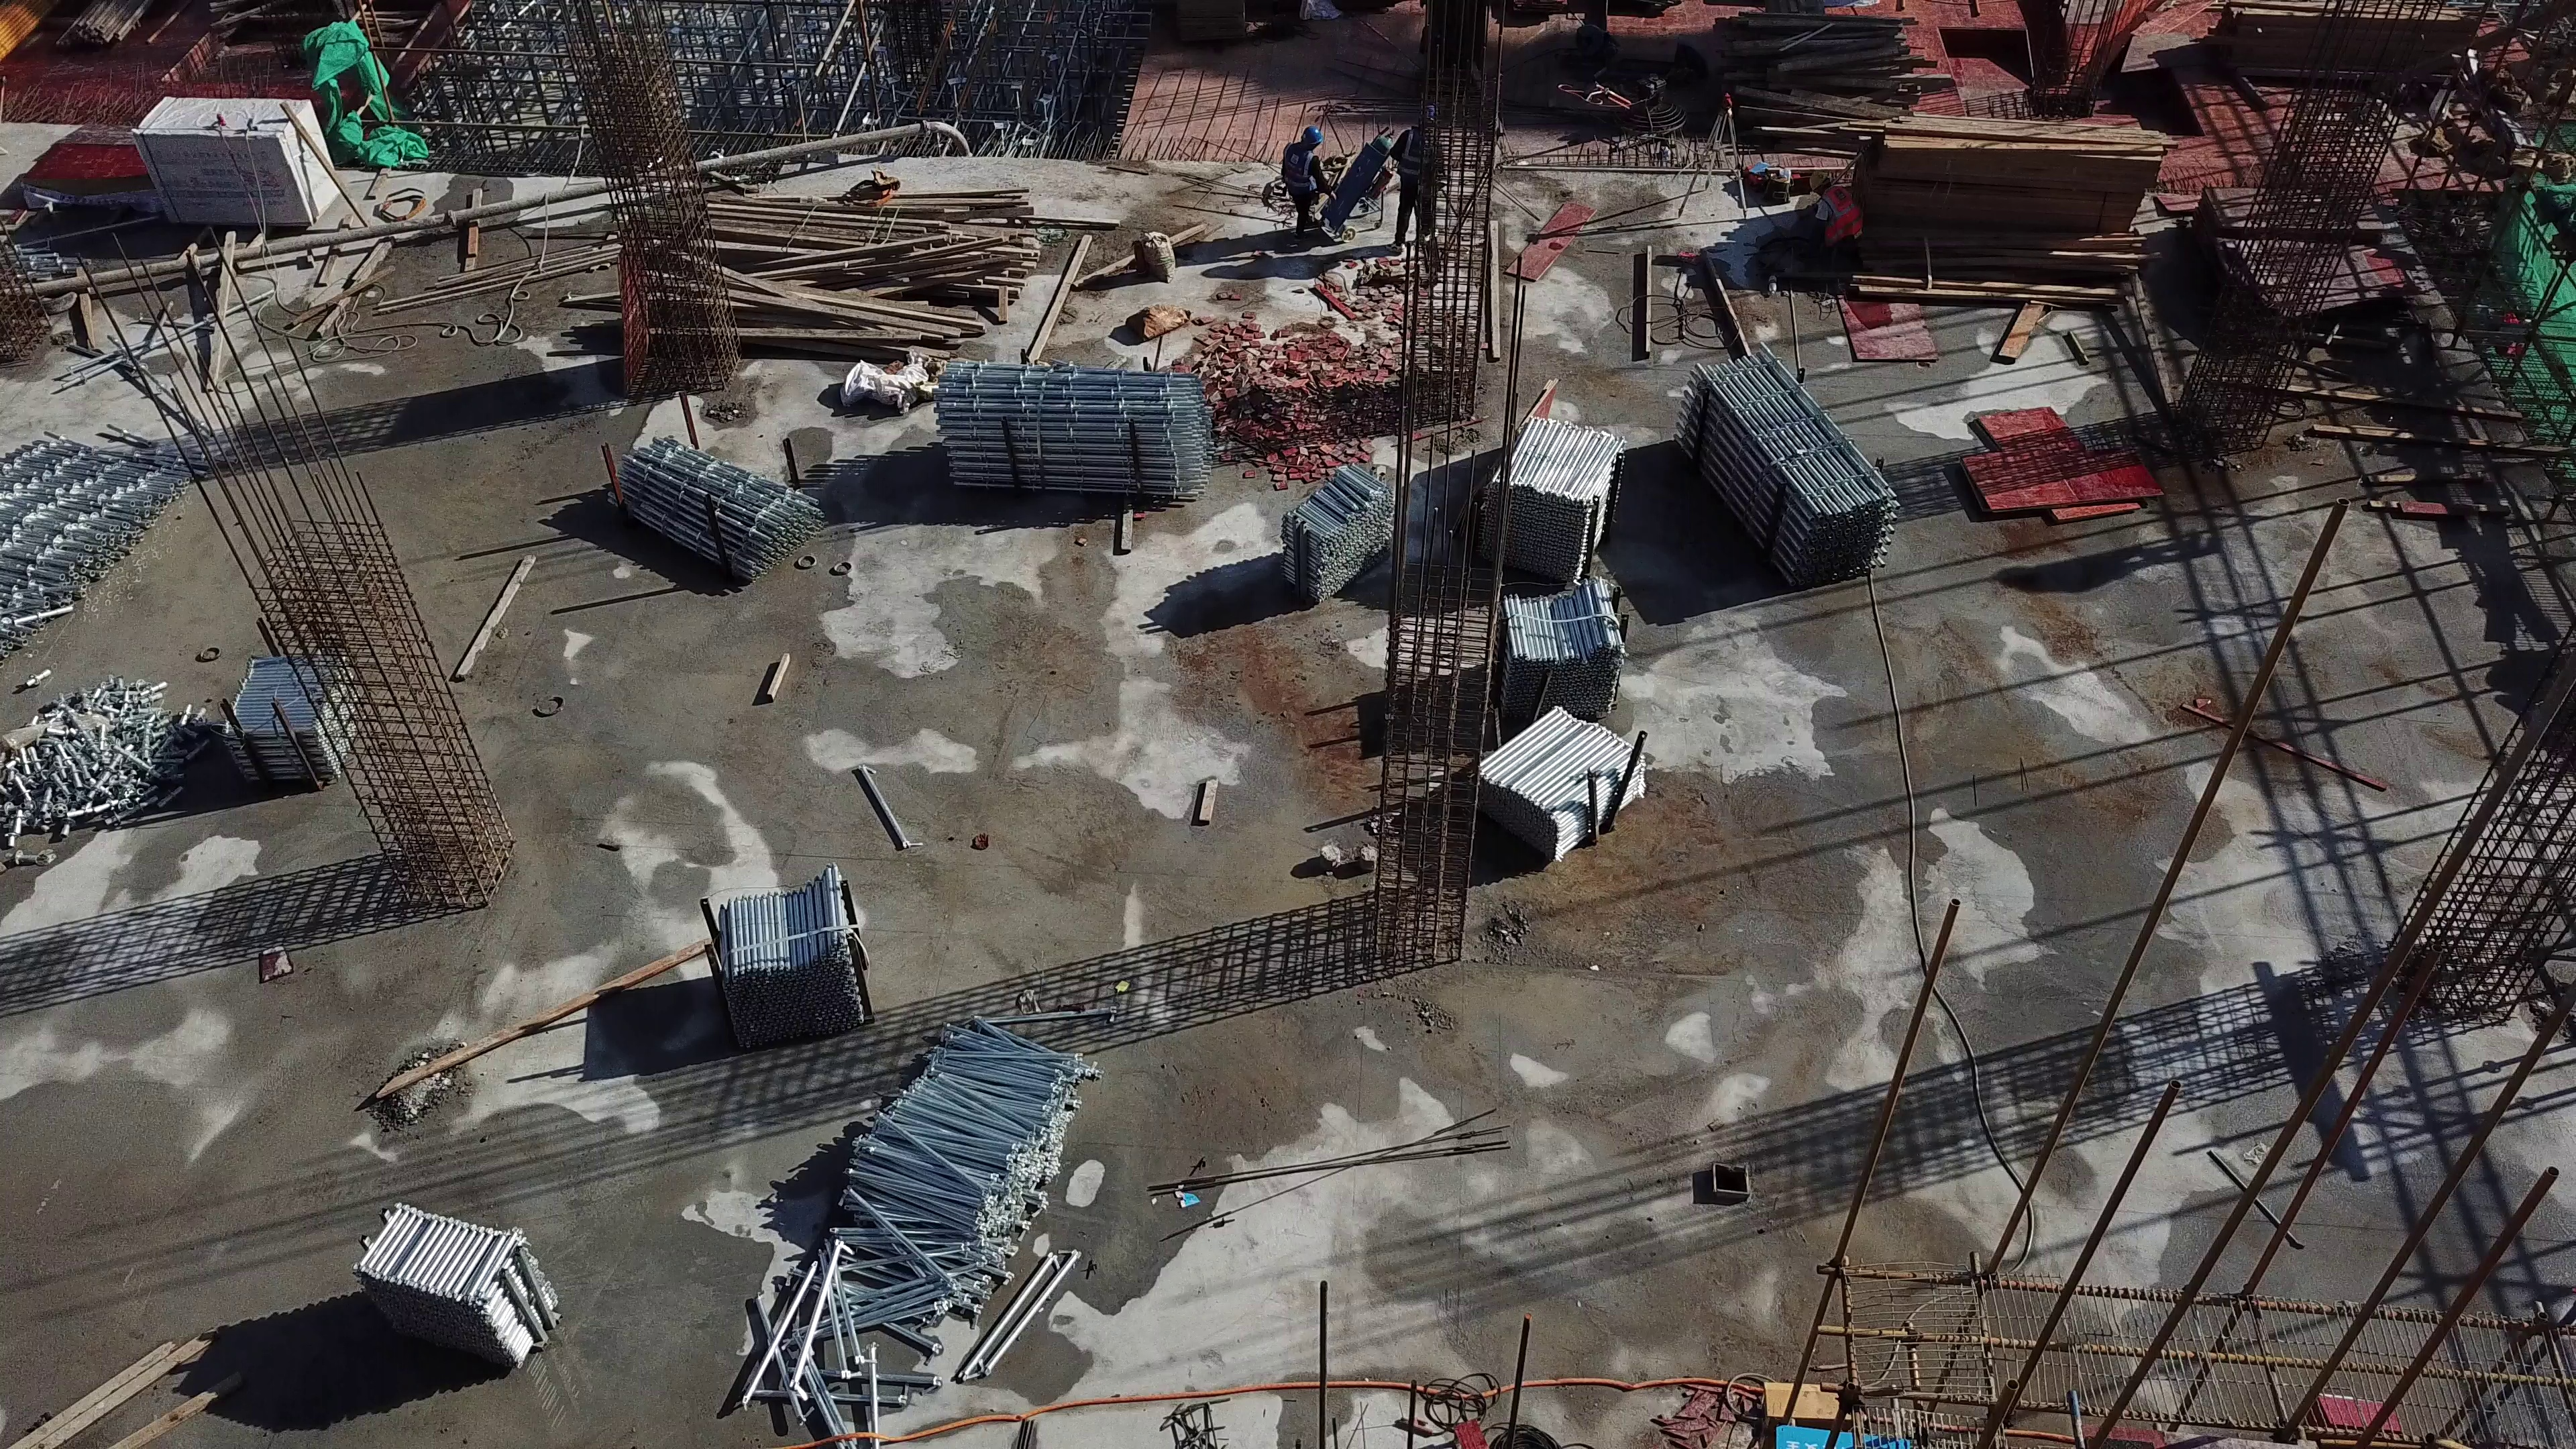board: (1943, 407, 2171, 529), (1837, 296, 1941, 369)
helmet: (1297, 123, 1326, 148), (1806, 170, 1826, 189)
person: (1793, 165, 1866, 274), (1391, 103, 1437, 256), (1277, 119, 1322, 241)
scaffold: (765, 1016, 1140, 1449), (1680, 362, 1913, 598), (918, 362, 1225, 521), (1, 411, 196, 652), (332, 1199, 571, 1373), (1, 681, 219, 858), (1438, 702, 1667, 855), (705, 857, 890, 1040), (616, 440, 824, 590), (1481, 408, 1625, 590), (215, 640, 361, 793), (1472, 580, 1648, 705), (1287, 468, 1409, 592)
vest: (1816, 193, 1862, 247), (1280, 142, 1316, 194)
wood: (1883, 119, 2149, 275), (727, 205, 1000, 335), (1723, 15, 1936, 121)
